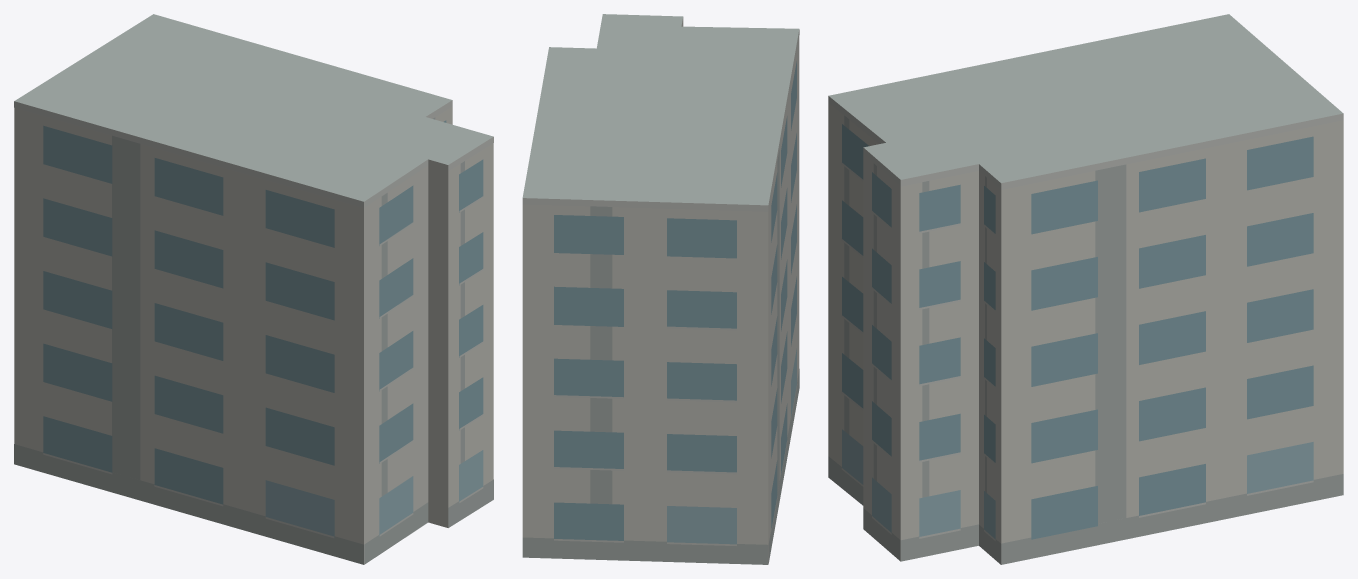
File: survey-upis-32739090.glb
3 renders of one model, left to right at view 1: azimuth 30°, elevation 25°; view 2: azimuth 150°, elevation 25°; view 3: azimuth 270°, elevation 25°, orthographic. The views are drawn at different scales.
Visible parts, largest first — view 1: survey-upis-32739090.tmp; view 2: survey-upis-32739090.tmp; view 3: survey-upis-32739090.tmp.
Part boxes in pixels (bbox=[...]): survey-upis-32739090.tmp: bbox=[14, 14, 493, 564]; survey-upis-32739090.tmp: bbox=[522, 14, 799, 564]; survey-upis-32739090.tmp: bbox=[828, 14, 1343, 564].
Size of the model in its own units: 13.32 by 14 by 17.14.
